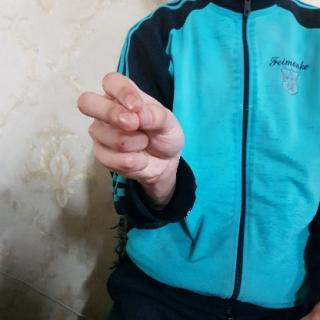QAAF: (74, 69, 188, 192)
